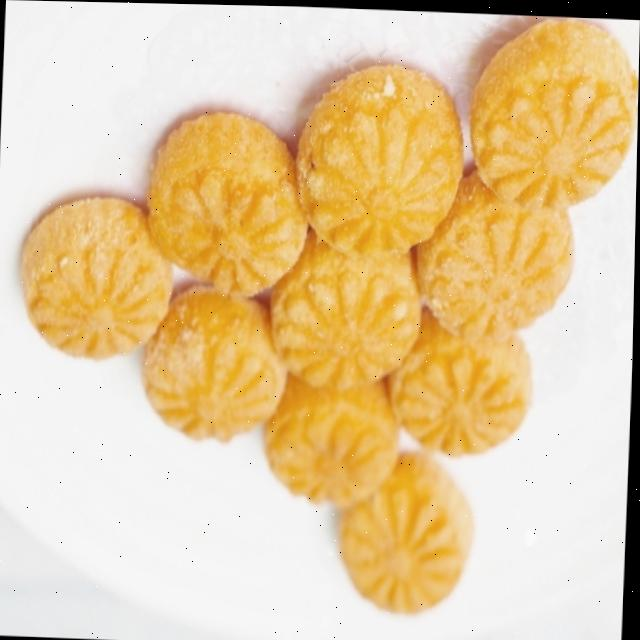炸货点心: (5, 0, 640, 629)
蛋糕甜品: (5, 0, 640, 629)
